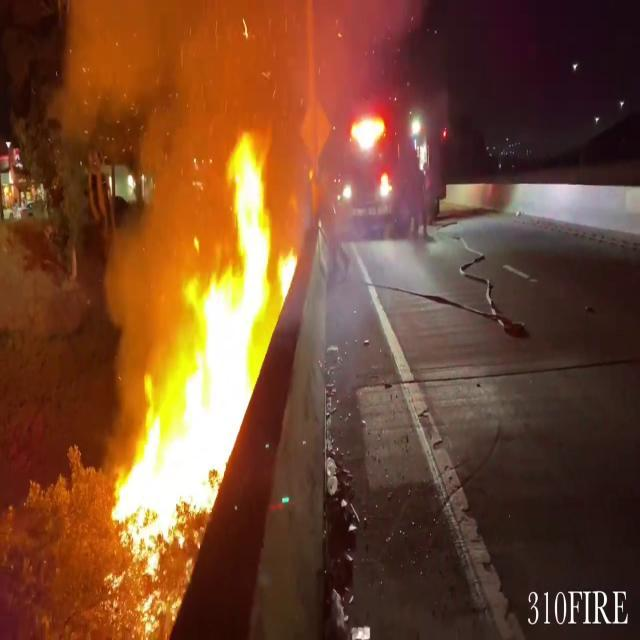Fire: (110, 119, 300, 592)
Smoke: (52, 0, 371, 194)
